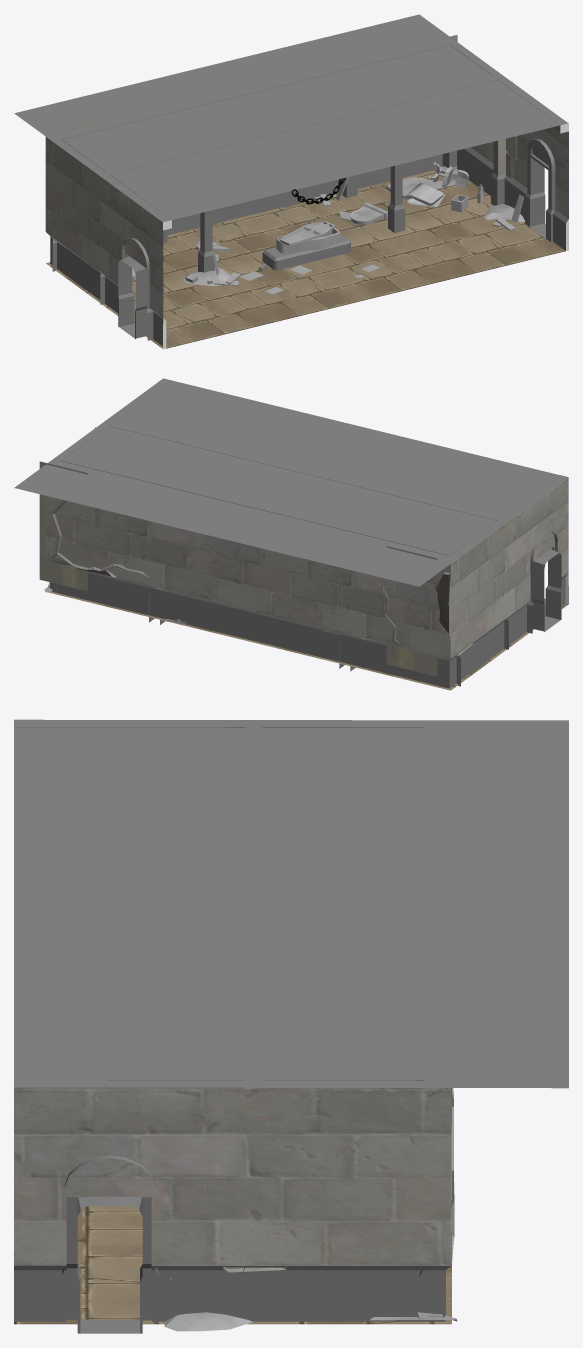
Rendered from MSH_QuestMausoleum_L2_R2_optimized.fbx.
3 renders of one model, top to bottom at view 1: azimuth 30°, elevation 25°; view 2: azimuth 150°, elevation 25°; view 3: azimuth 270°, elevation 25°, orthographic. The views are drawn at different scales.
Visible parts, largest first — view 1: lightmap2, lightmap6, lightmap5, lightmap0, lightmap1, MSH_QuestMausoleum_L2_R2_Black_01, MSH_QuestMausoleum_L2_R2_Decals_01; view 2: lightmap2, lightmap6, MSH_QuestMausoleum_L2_R2_Decals_01, lightmap1, lightmap5; view 3: lightmap2, lightmap6, lightmap1, lightmap5, lightmap0.
Boxes of the visible parts, x1=… form: lightmap2: x1=14, y1=14, x2=567, y2=348; lightmap6: x1=45, y1=127, x2=568, y2=345; lightmap5: x1=52, y1=44, x2=560, y2=304; lightmap0: x1=132, y1=95, x2=524, y2=294; lightmap1: x1=118, y1=139, x2=555, y2=340; MSH_QuestMausoleum_L2_R2_Black_01: x1=163, y1=123, x2=568, y2=349; MSH_QuestMausoleum_L2_R2_Decals_01: x1=60, y1=35, x2=512, y2=176; lightmap2: x1=14, y1=378, x2=568, y2=690; lightmap6: x1=45, y1=478, x2=568, y2=688; MSH_QuestMausoleum_L2_R2_Decals_01: x1=39, y1=427, x2=437, y2=676; lightmap1: x1=527, y1=531, x2=561, y2=633; lightmap5: x1=57, y1=384, x2=560, y2=686; lightmap2: x1=14, y1=719, x2=568, y2=1324; lightmap6: x1=14, y1=1088, x2=454, y2=1321; lightmap1: x1=62, y1=1155, x2=158, y2=1333; lightmap5: x1=14, y1=727, x2=450, y2=1314; lightmap0: x1=164, y1=1278, x2=457, y2=1331.
Bounding box in the file's own units: 20.6 × 6.27 × 12.49.
6 materials, 4 textured.
